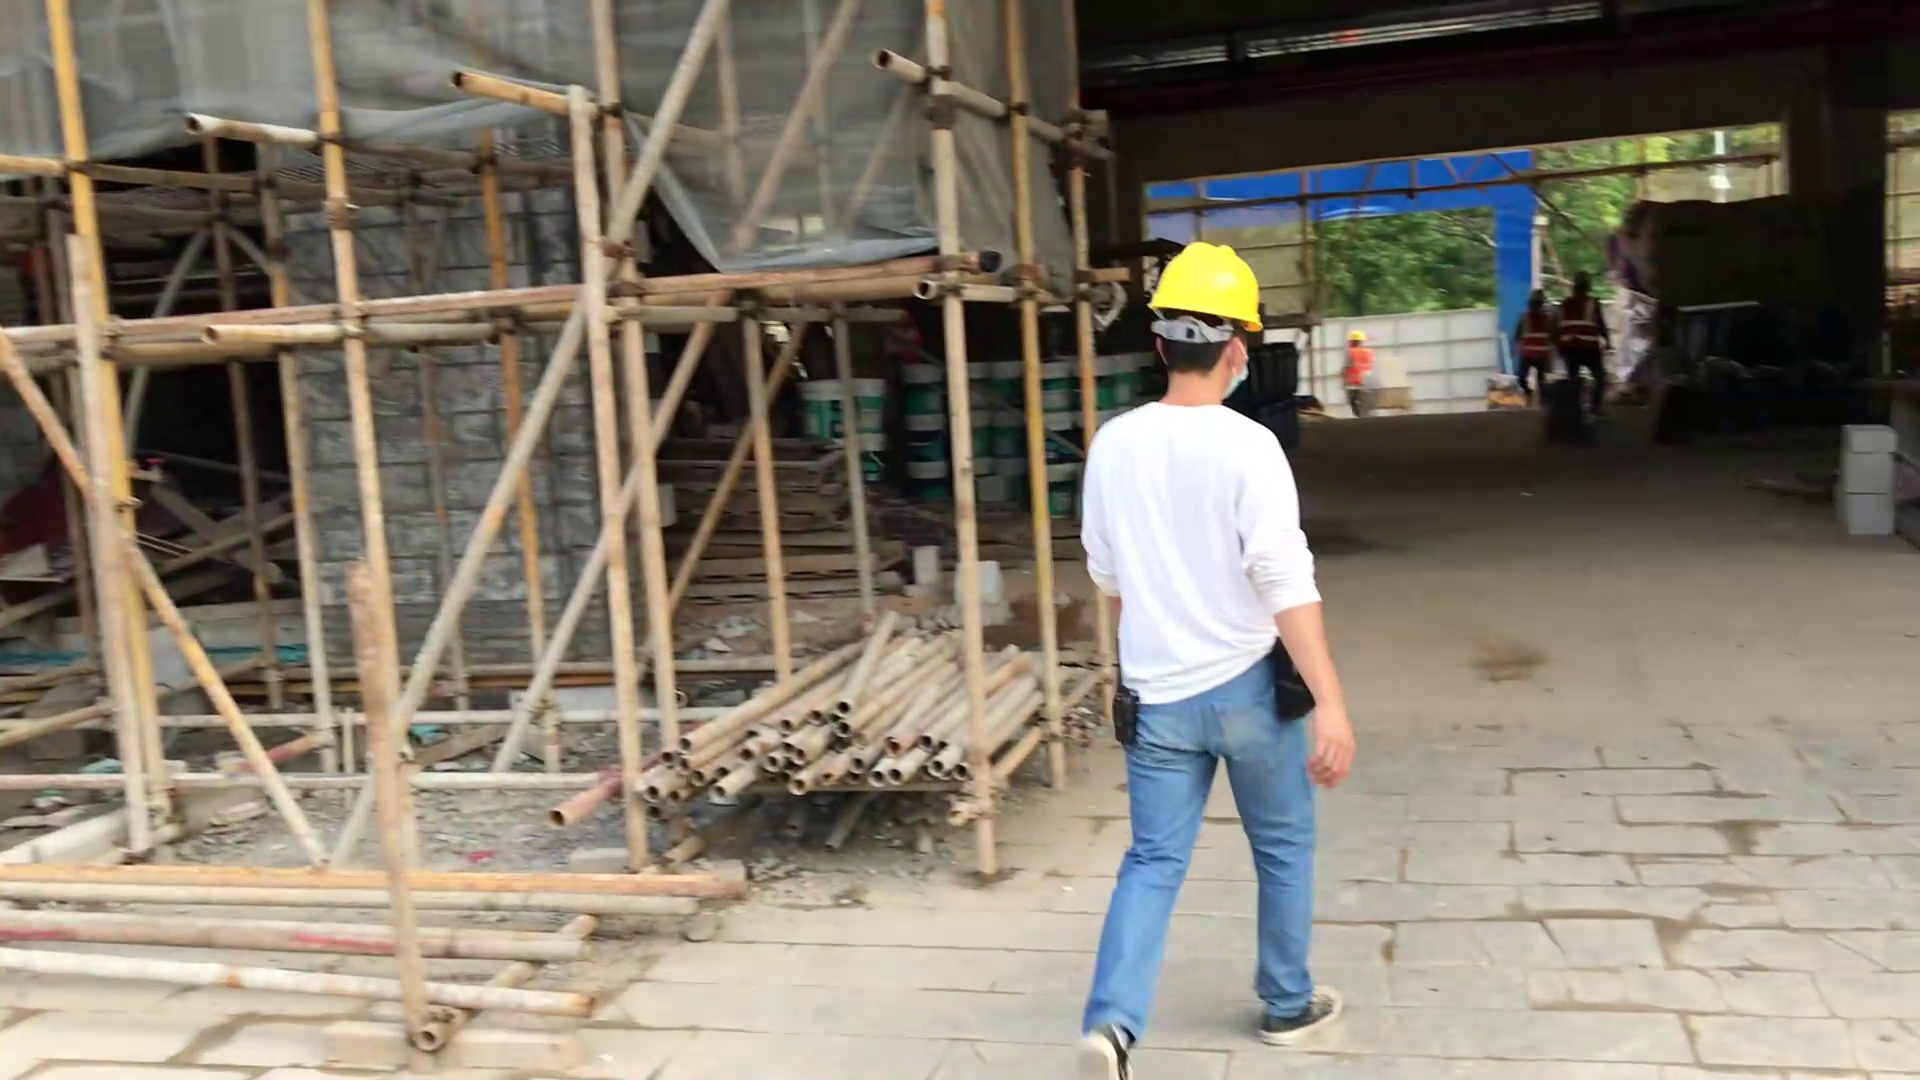helmet: (1118, 220, 1289, 338), (1341, 320, 1374, 342)
person: (1069, 235, 1382, 1080), (1552, 258, 1619, 424), (1507, 279, 1563, 405), (1329, 320, 1393, 416)
vest: (1563, 295, 1607, 363), (1517, 305, 1552, 374)
